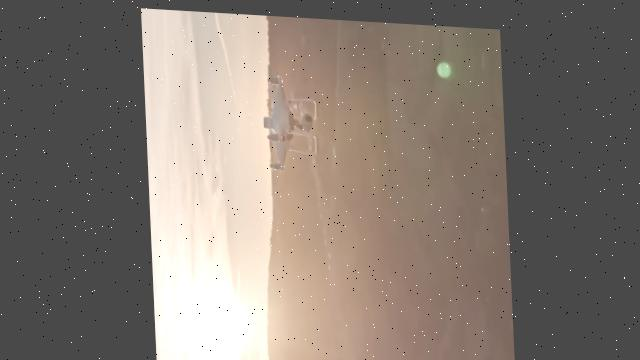drone: (257, 62, 318, 176)
